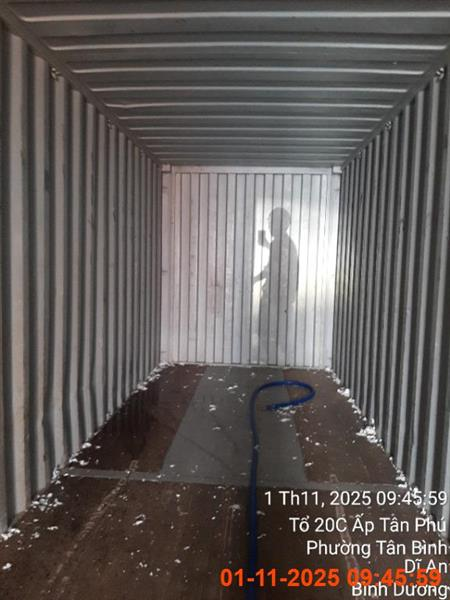hole: (251, 207, 299, 366)
